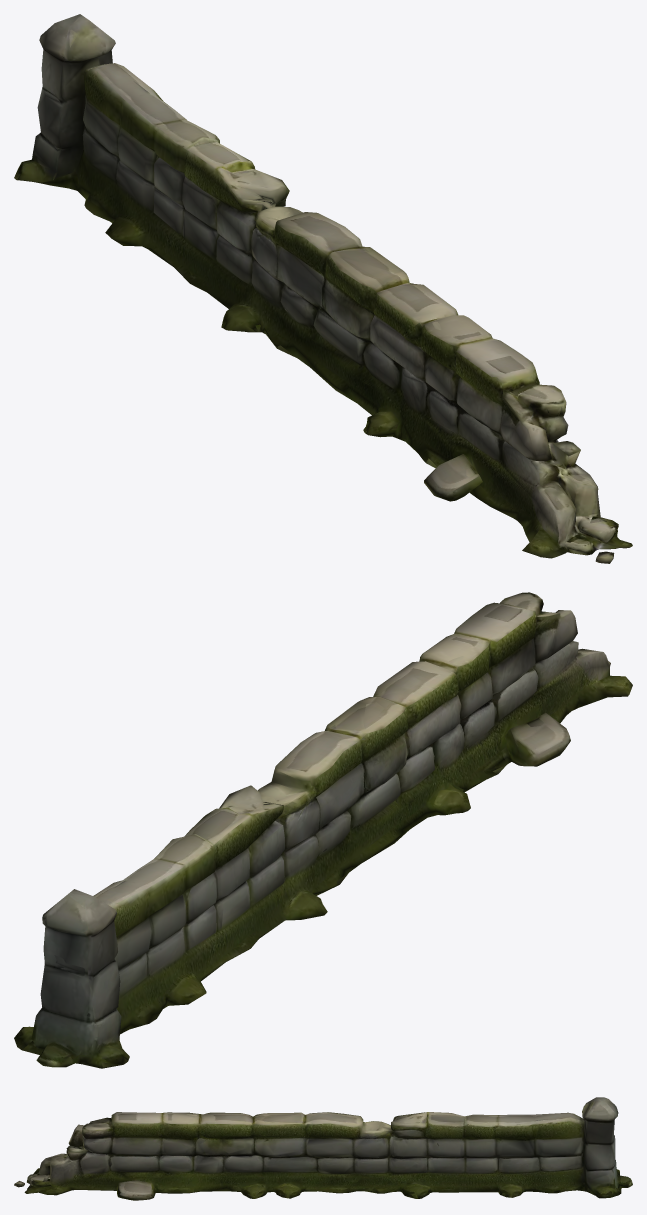
The model's file is StoneWall1.opt.glb.
3 views of the same model, one above another, from view 1: azimuth 30°, elevation 25°; view 2: azimuth 150°, elevation 25°; view 3: azimuth 270°, elevation 25° (orthographic). The views are drawn at different scales.
Visible parts, largest first — view 1: node_0; view 2: node_0; view 3: node_0.
Part boxes in pixels (x1,y1,x2,y2): node_0: (14,14,632,563); node_0: (14,592,632,1068); node_0: (14,1097,632,1200).
Bounding box in the file's own units: 0.1584 × 0.1825 × 1.18.
Materials: 1 (1 with a texture image).
